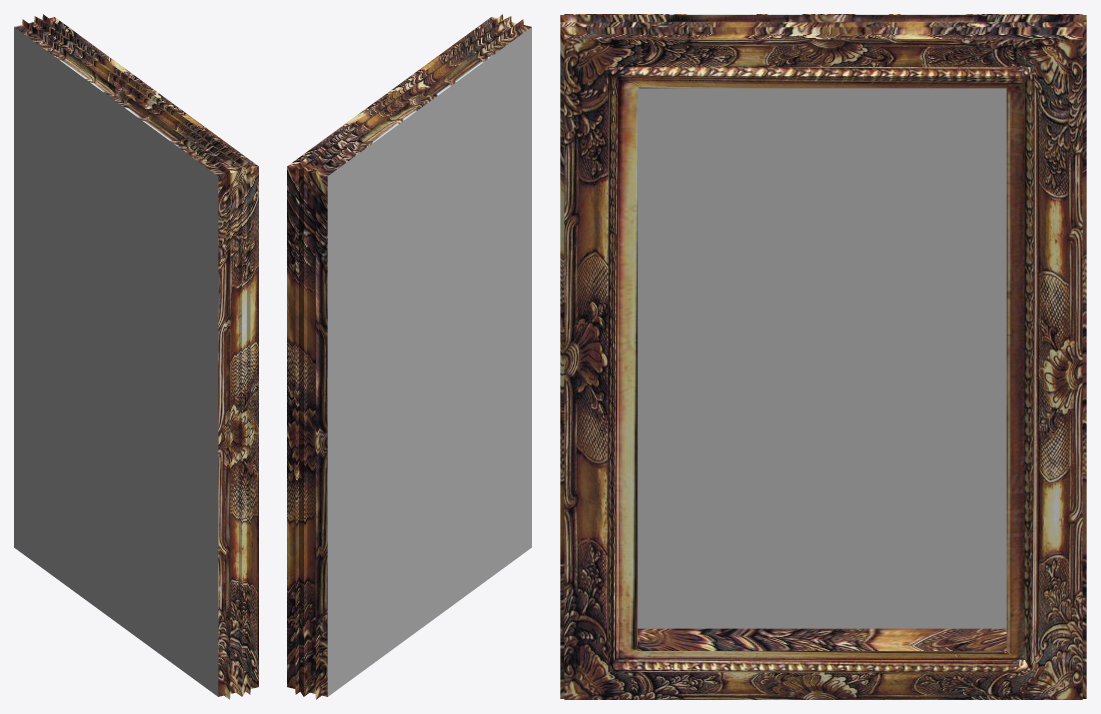
The picture shows the model from 3 angles, left to right: view 1: azimuth 30°, elevation 25°; view 2: azimuth 150°, elevation 25°; view 3: azimuth 270°, elevation 25°; orthographic projection. The views are drawn at different scales.
Parts seen in each view (by area): view 1: 画框; view 2: 画框; view 3: 画框.
Boxes of the visible parts, left/top/right/bottom form: 画框: left=14, top=14, right=258, bottom=699; 画框: left=287, top=14, right=531, bottom=699; 画框: left=560, top=14, right=1086, bottom=699.
Bounding box in the file's own units: 18.25 × 201 × 143.
